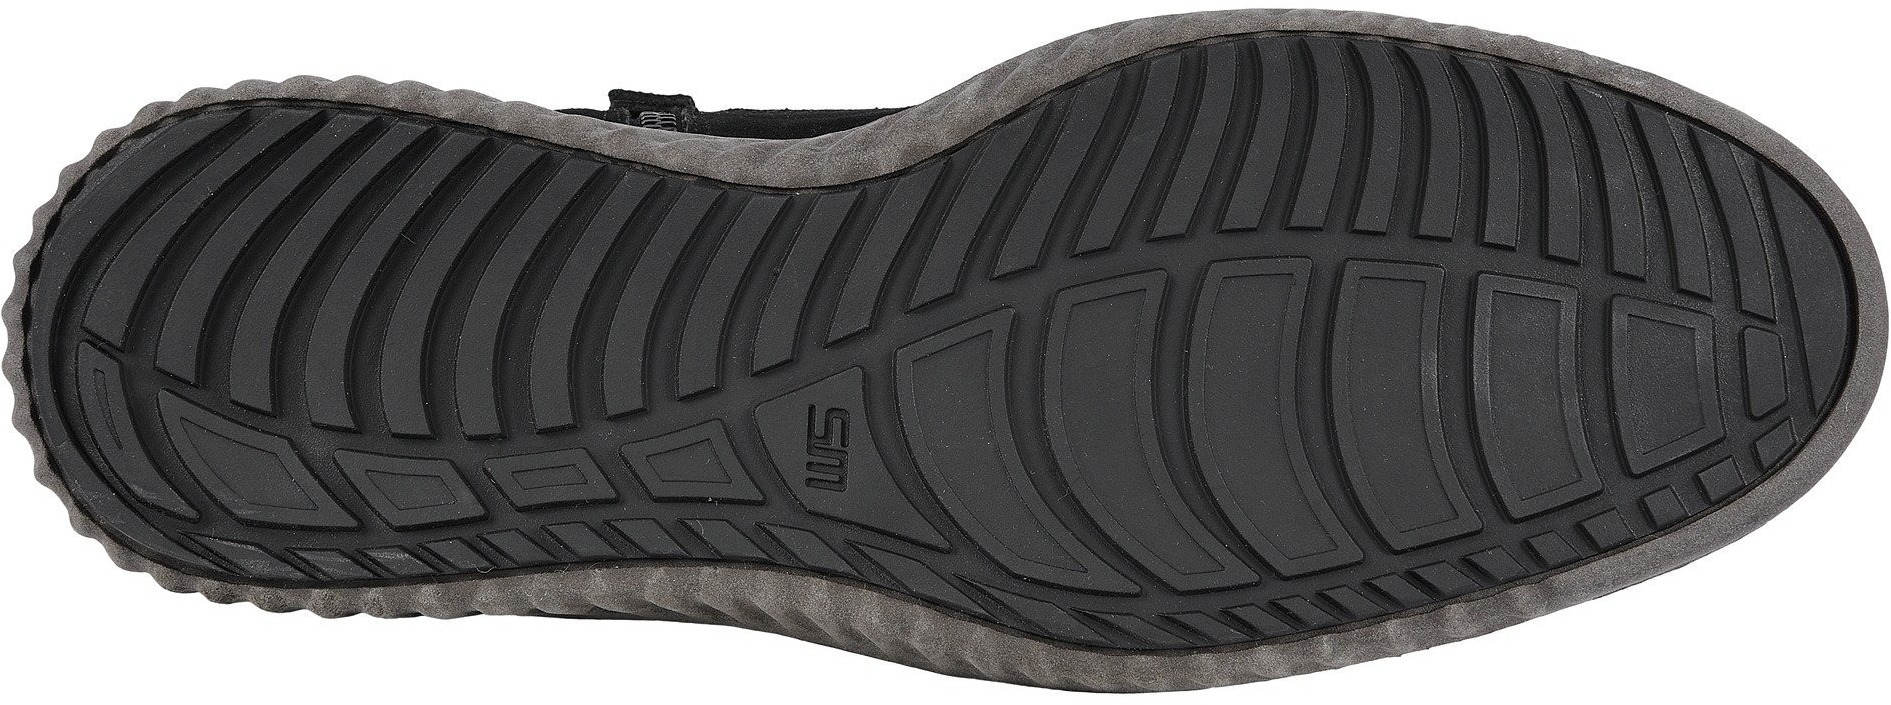quad: (137, 143, 459, 431), (920, 313, 1177, 568), (478, 183, 691, 427), (1208, 41, 1425, 262), (1442, 75, 1631, 278), (1649, 133, 1811, 315), (1032, 102, 1194, 265)
text: (781, 393, 885, 505)
